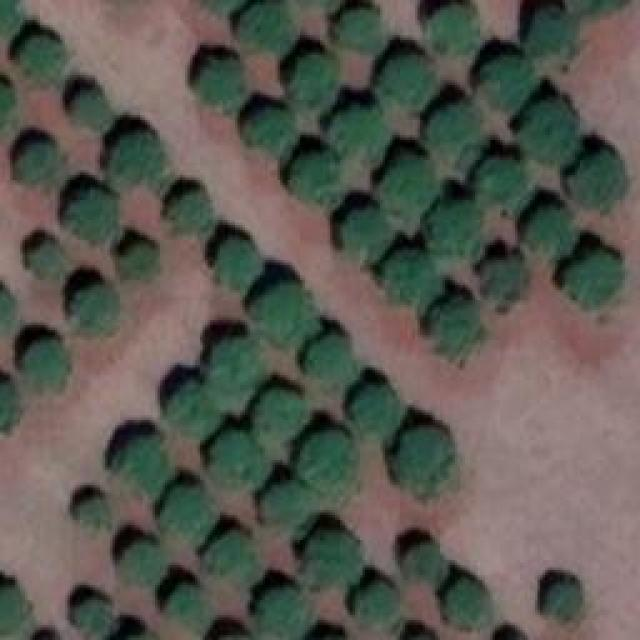Tree: (377, 155, 435, 233), (255, 285, 320, 350), (108, 133, 171, 196), (395, 427, 453, 495), (520, 100, 578, 163), (328, 108, 388, 168), (297, 435, 355, 495), (433, 297, 483, 365), (385, 253, 438, 316), (115, 437, 170, 495), (210, 433, 268, 488), (383, 55, 438, 113), (570, 152, 625, 210), (428, 205, 481, 265), (163, 488, 218, 543), (305, 535, 360, 590), (215, 338, 263, 401), (480, 58, 538, 110), (428, 105, 483, 158), (570, 253, 623, 308), (528, 7, 578, 65), (340, 208, 390, 263), (260, 388, 310, 441), (68, 190, 118, 243), (290, 155, 343, 205), (215, 235, 263, 290), (172, 385, 220, 438), (307, 335, 355, 388), (290, 55, 338, 108), (475, 160, 528, 208), (238, 5, 291, 53), (260, 590, 310, 638), (207, 533, 255, 583), (352, 388, 400, 438), (243, 110, 296, 155), (198, 60, 243, 113), (485, 258, 528, 311), (525, 210, 578, 253), (165, 585, 210, 633), (117, 543, 165, 588), (20, 340, 65, 388), (433, 5, 478, 53), (335, 8, 383, 53), (73, 283, 116, 333), (18, 143, 63, 186), (262, 485, 310, 523), (358, 583, 398, 628), (0, 587, 32, 640), (23, 38, 58, 83), (118, 242, 158, 280), (450, 583, 488, 623), (172, 195, 210, 233), (73, 93, 113, 128), (75, 600, 113, 635), (28, 242, 63, 280), (405, 545, 443, 578), (78, 498, 111, 528), (548, 583, 581, 613), (0, 383, 18, 433), (0, 85, 15, 138), (0, 0, 20, 32)
